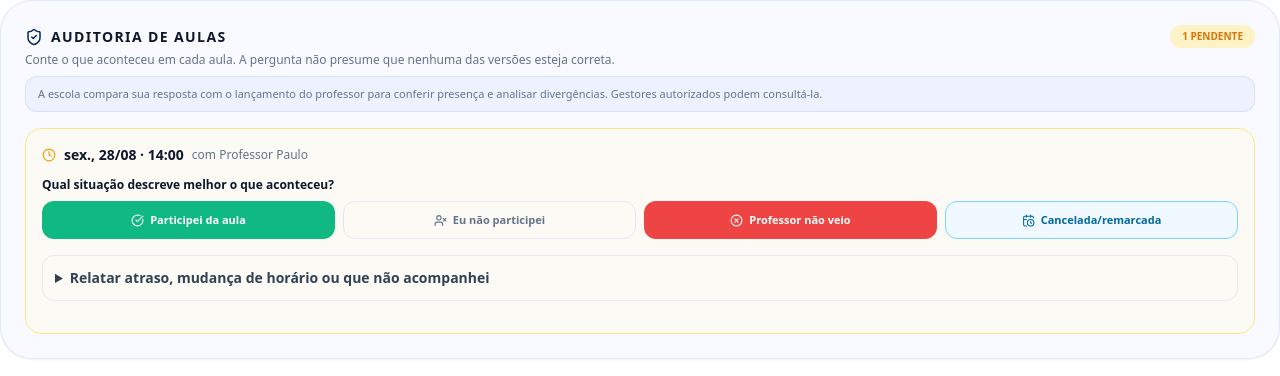
Test: <StudentAuditPanel /> › responde pela RPC autenticada usando o id, sem reutilizar token público
Expected: the text "Qual situação descreve melhor o que aconteceu?" is shown, [42,176,334,193]
Expected: the text "gestores autorizados podem consultá-la" is shown, [38,86,822,101]
Click the button "Cancelada/remarcada" at (1092, 220), box [945,201,1238,239]
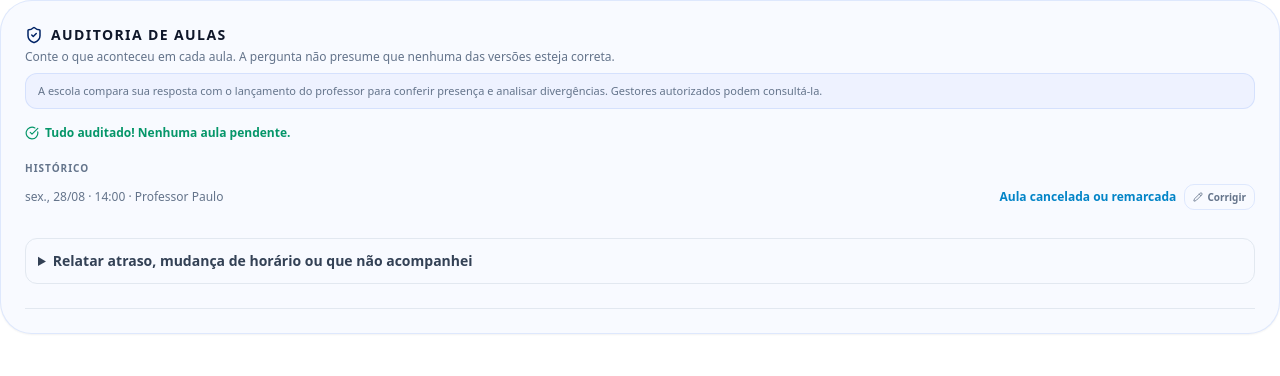
Result: the text "Aula cancelada ou remarcada" is shown at [1000,189,1176,205]
